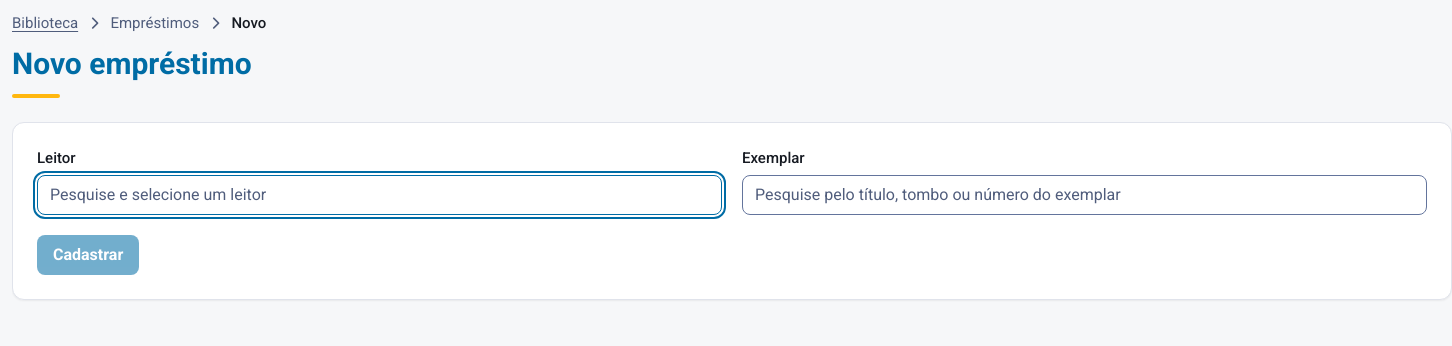
novo empréstimo autocomplete › invalidates an edited leitor selection
This screenshot has width=1452, height=346.
Type "clicio" into the dropdown with id "leitor" at (380, 195), box [37,175,722,215]
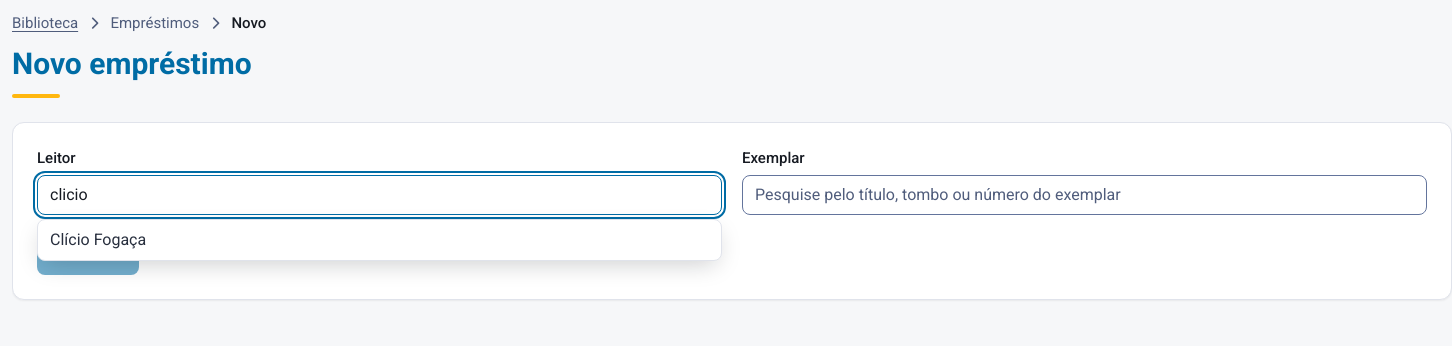
Click the option "Clício Fogaça" at (98, 240), box [38,220,721,260]
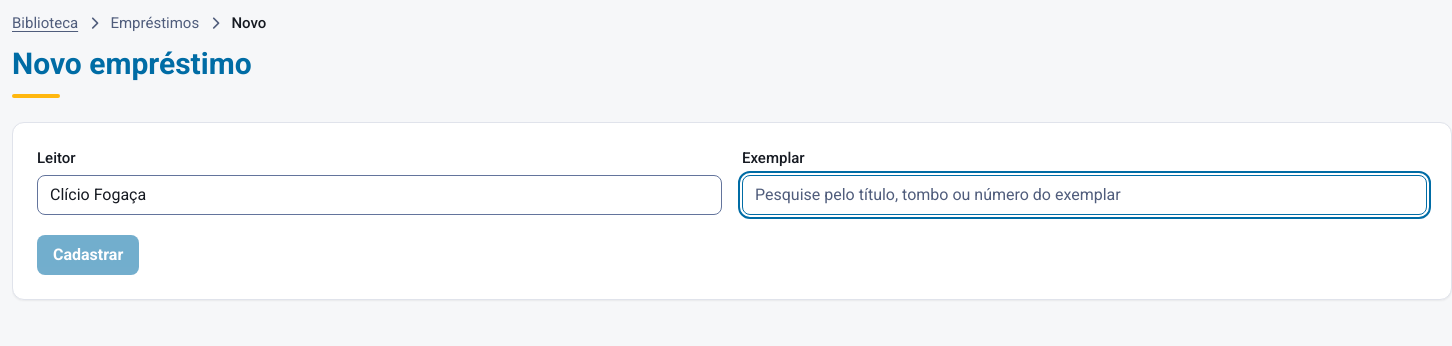
Type "00456" into the dropdown with id "exemplar" at (1084, 195), box [742,175,1427,215]
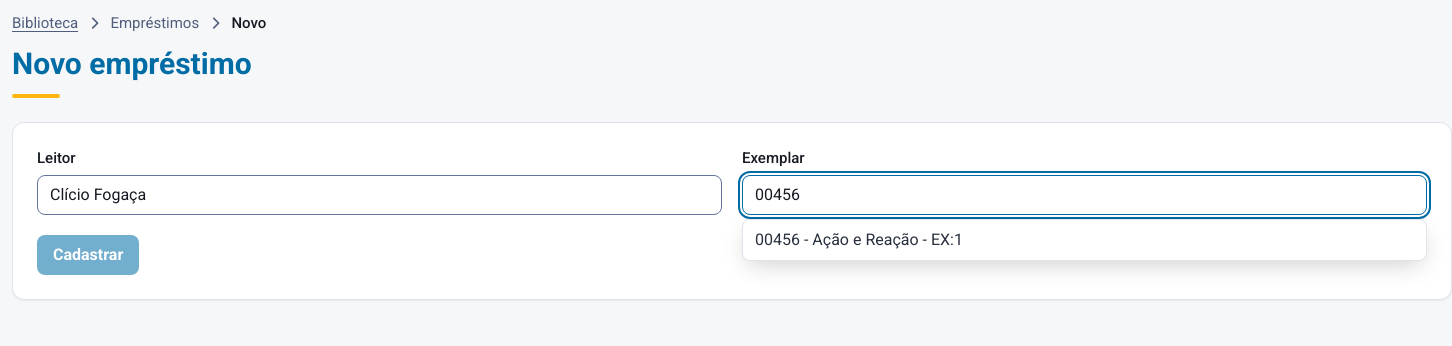
Click the option "00456 - Ação e Reação - EX:1" at (859, 240), box [743,220,1426,260]
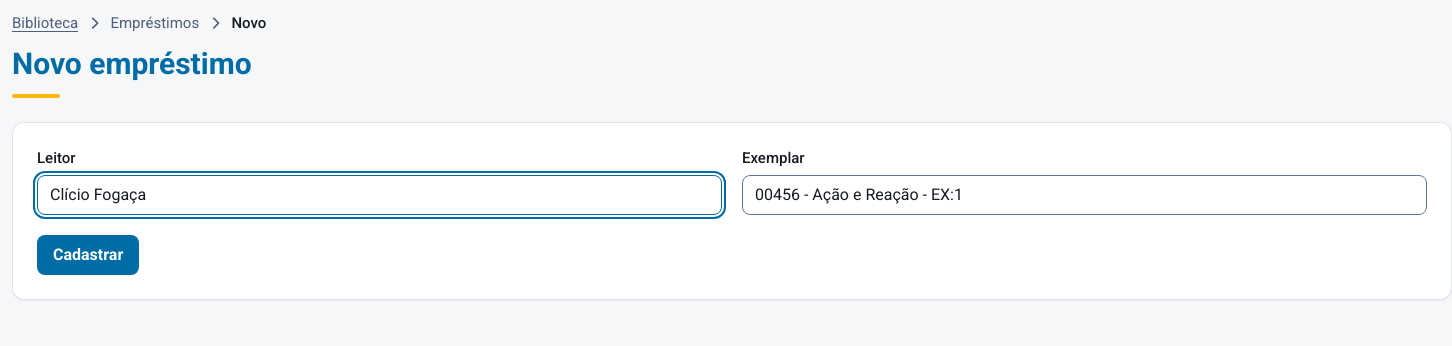
Replace the text in the dropdown with id "leitor" with "pesquisa sem seleção" at (380, 195), box [37,175,722,215]
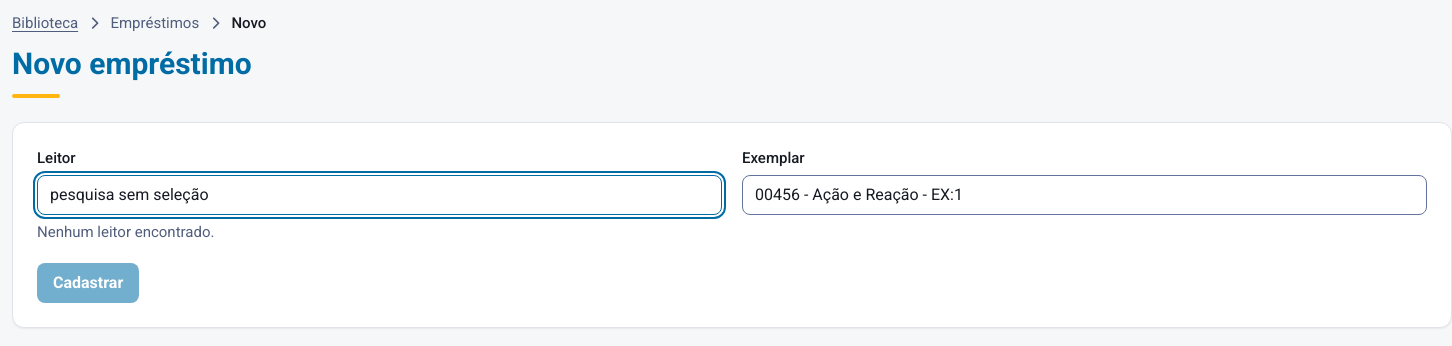
Expected: the submit button is disabled, [37,263,139,303]
